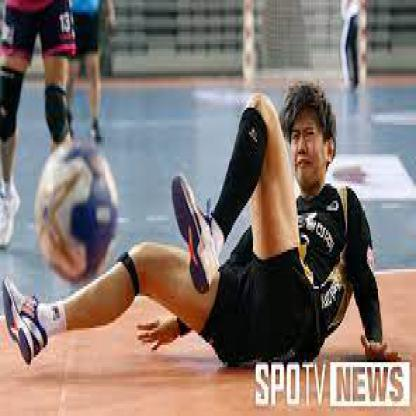Fall_Down: (2, 80, 403, 373)
